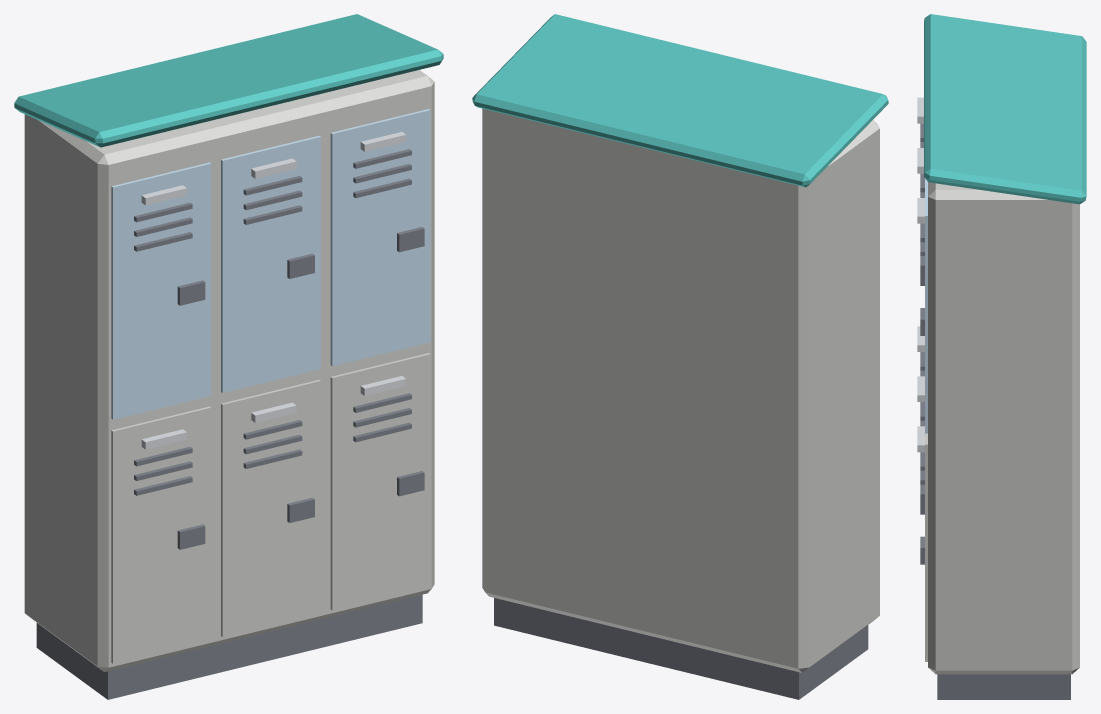
3 views of the same model, side by side, from view 1: azimuth 30°, elevation 25°; view 2: azimuth 150°, elevation 25°; view 3: azimuth 270°, elevation 25° (orthographic). The views are drawn at different scales.
Visible parts, largest first — view 1: staff-locker-bank; view 2: staff-locker-bank; view 3: staff-locker-bank.
Boxes of the visible parts, bbox=[...] form: staff-locker-bank: bbox=[14, 14, 443, 699]; staff-locker-bank: bbox=[472, 14, 888, 699]; staff-locker-bank: bbox=[917, 14, 1086, 699].
Bounding box in the file's own units: 1.24 × 1.95 × 0.5567.
